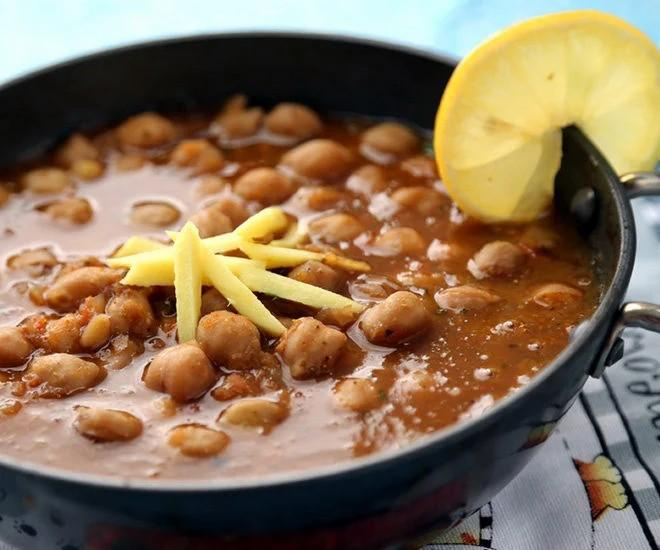Chole: (3, 96, 599, 487)
